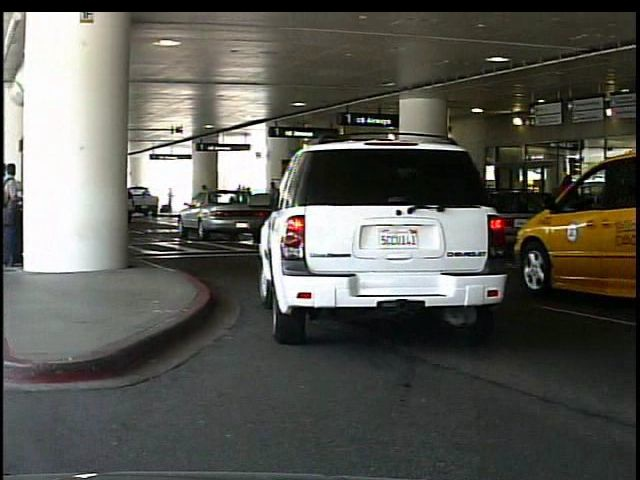person: (554, 172, 584, 257), (169, 188, 176, 215)
